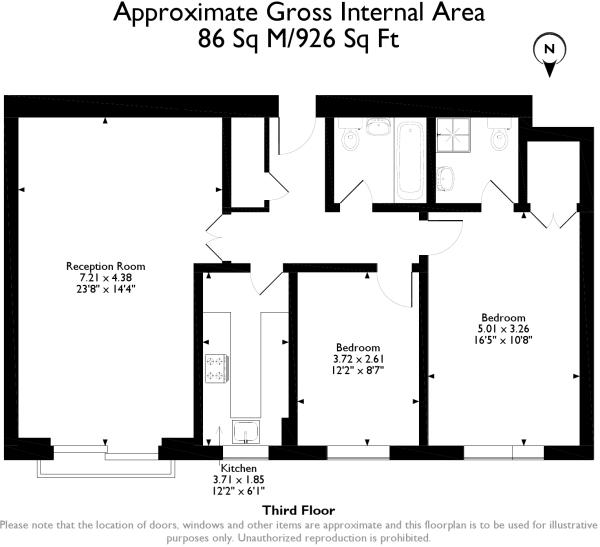GrossArea: (108, 1, 491, 56)
